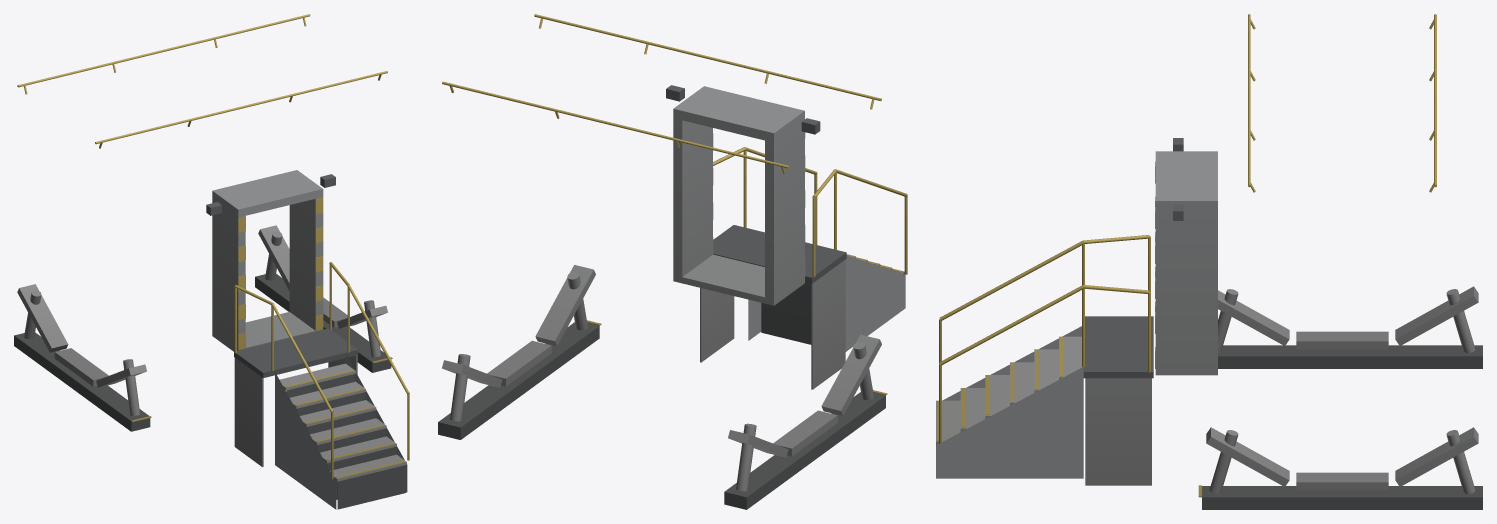
The model's file is hab_frame.glb.
3 renders of one model, left to right at view 1: azimuth 30°, elevation 25°; view 2: azimuth 150°, elevation 25°; view 3: azimuth 270°, elevation 25°, orthographic. The views are drawn at different scales.
Visible parts, largest first — view 1: hab_frame; view 2: hab_frame; view 3: hab_frame.
Part boxes in pixels (<box>): hab_frame: <box>14,14,409,509</box>; hab_frame: <box>438,14,907,509</box>; hab_frame: <box>936,14,1482,509</box>.
Bounding box in the file's own units: 4.6 × 4.51 × 6.23.
